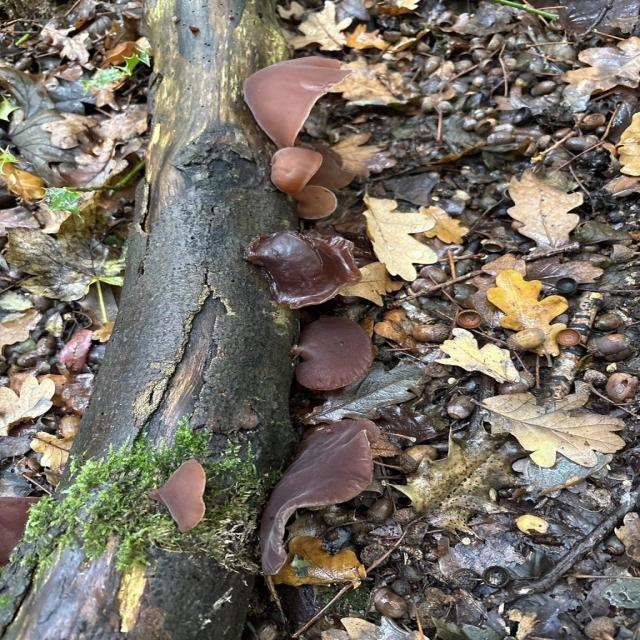Matang: (278, 415, 393, 585), (270, 307, 393, 406), (225, 223, 362, 301), (248, 40, 342, 146), (266, 141, 344, 230)
